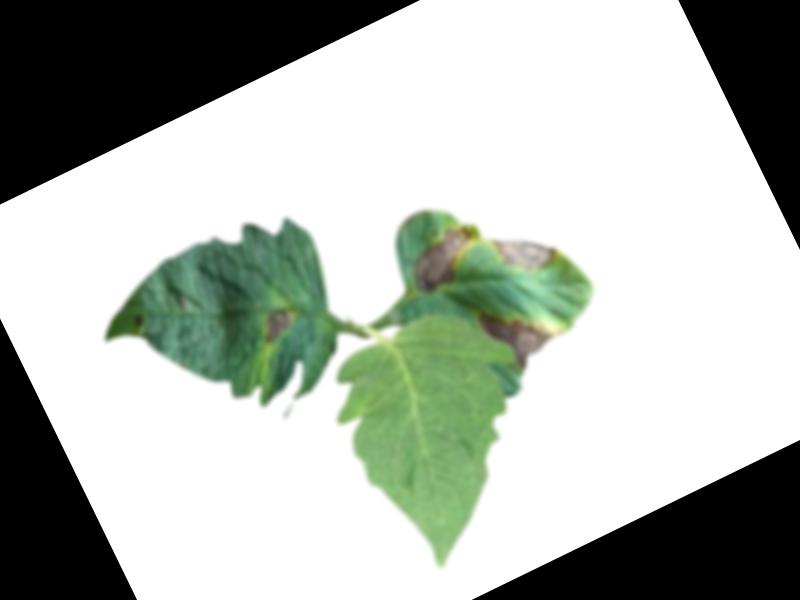Early_blight: (476, 291, 559, 379), (402, 220, 491, 298), (489, 211, 564, 282), (255, 303, 300, 348), (130, 311, 149, 331)
